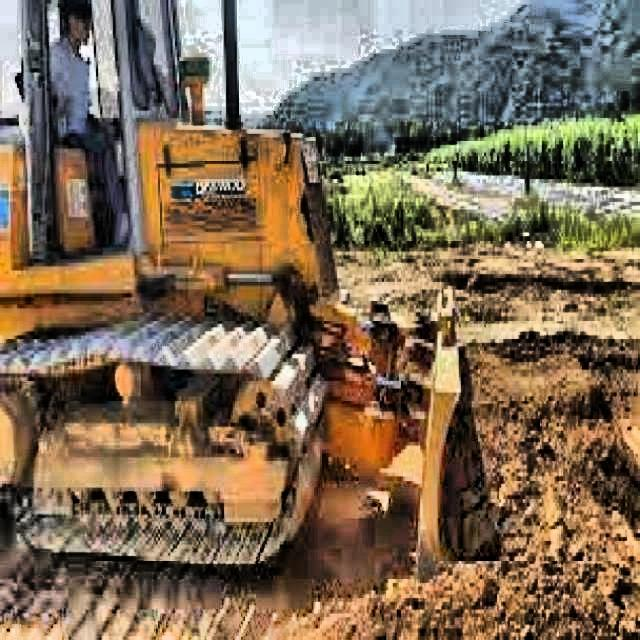bull_dozer/loader/grader: (0, 0, 505, 567)
person: (50, 1, 121, 250)
